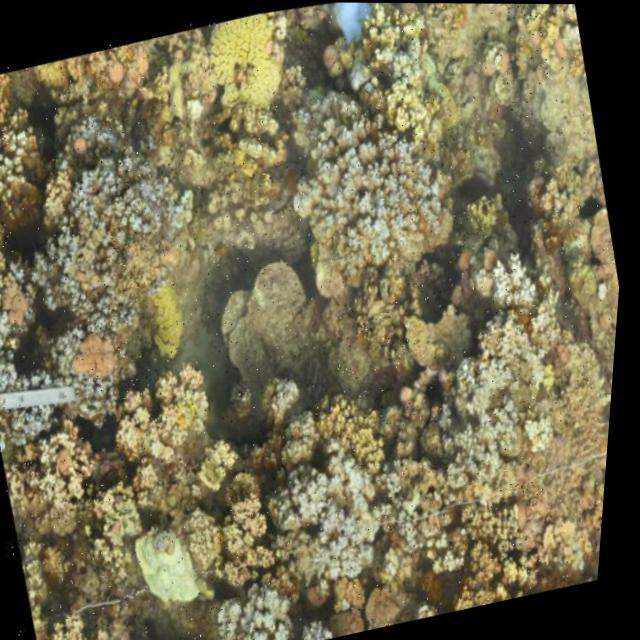Bleached Coral: (285, 88, 458, 272), (268, 440, 415, 594), (425, 336, 557, 487), (462, 228, 571, 368), (118, 508, 221, 626), (214, 556, 309, 640), (541, 3, 579, 29)
